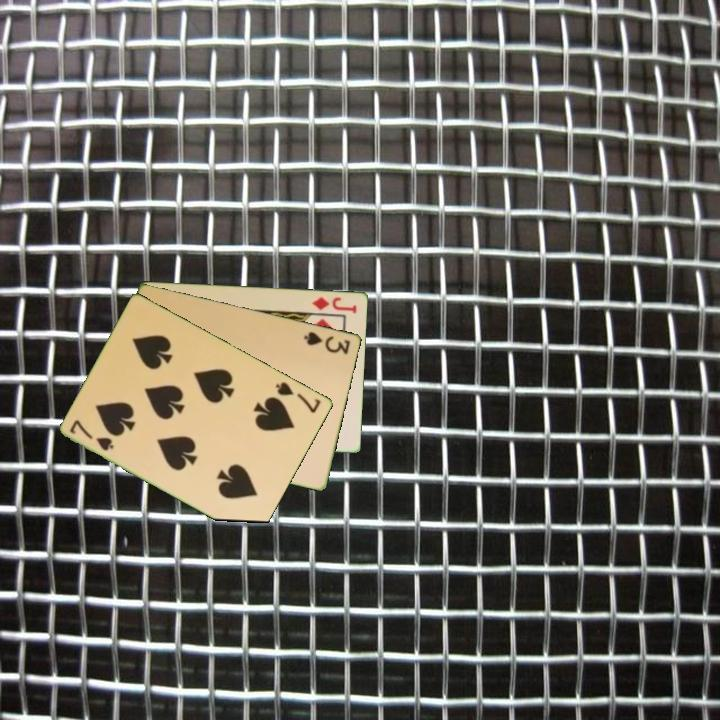3s: (301, 328, 353, 357)
7s: (272, 378, 324, 416), (66, 416, 117, 454)
Jd: (309, 293, 360, 316)
